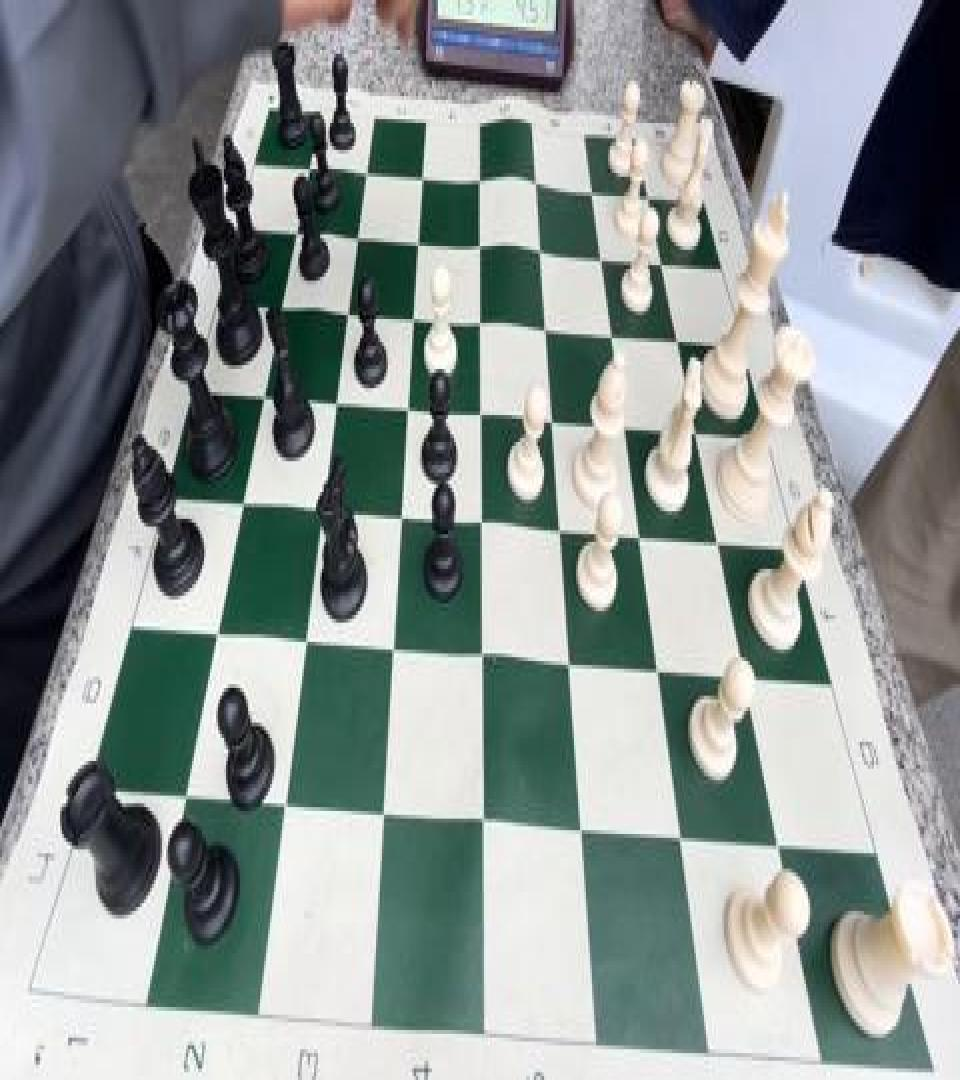xcorner: (272, 778, 294, 821), (469, 795, 491, 838), (568, 803, 590, 846), (765, 820, 787, 863), (206, 605, 228, 648), (469, 628, 491, 671), (731, 651, 753, 694), (233, 476, 255, 519), (312, 482, 334, 525), (547, 503, 569, 546), (626, 509, 648, 552), (397, 382, 419, 425), (469, 388, 491, 431), (683, 407, 705, 450), (273, 282, 295, 325), (338, 288, 360, 331), (534, 305, 556, 348), (599, 311, 621, 354), (664, 315, 686, 358), (288, 207, 310, 250), (348, 213, 370, 256), (589, 234, 611, 277), (649, 238, 671, 281), (301, 144, 323, 187), (469, 159, 491, 202), (524, 163, 546, 206), (173, 769, 195, 811), (370, 786, 392, 828), (666, 811, 688, 853), (294, 613, 316, 655), (381, 621, 403, 663), (556, 636, 578, 678), (644, 644, 666, 686), (390, 490, 412, 532), (469, 496, 491, 538), (704, 517, 726, 559), (255, 371, 277, 413), (326, 377, 348, 419), (540, 394, 562, 436), (611, 402, 633, 444), (403, 294, 425, 336), (469, 300, 491, 342), (408, 219, 430, 261), (469, 223, 491, 265), (529, 229, 551, 271), (357, 150, 379, 192), (413, 154, 435, 196), (580, 169, 602, 211), (636, 173, 658, 215)
